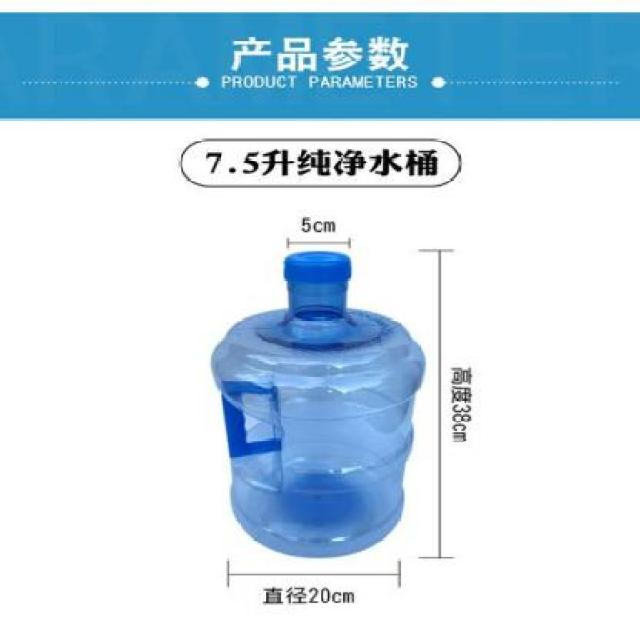coolerbottle: (209, 246, 430, 562)
